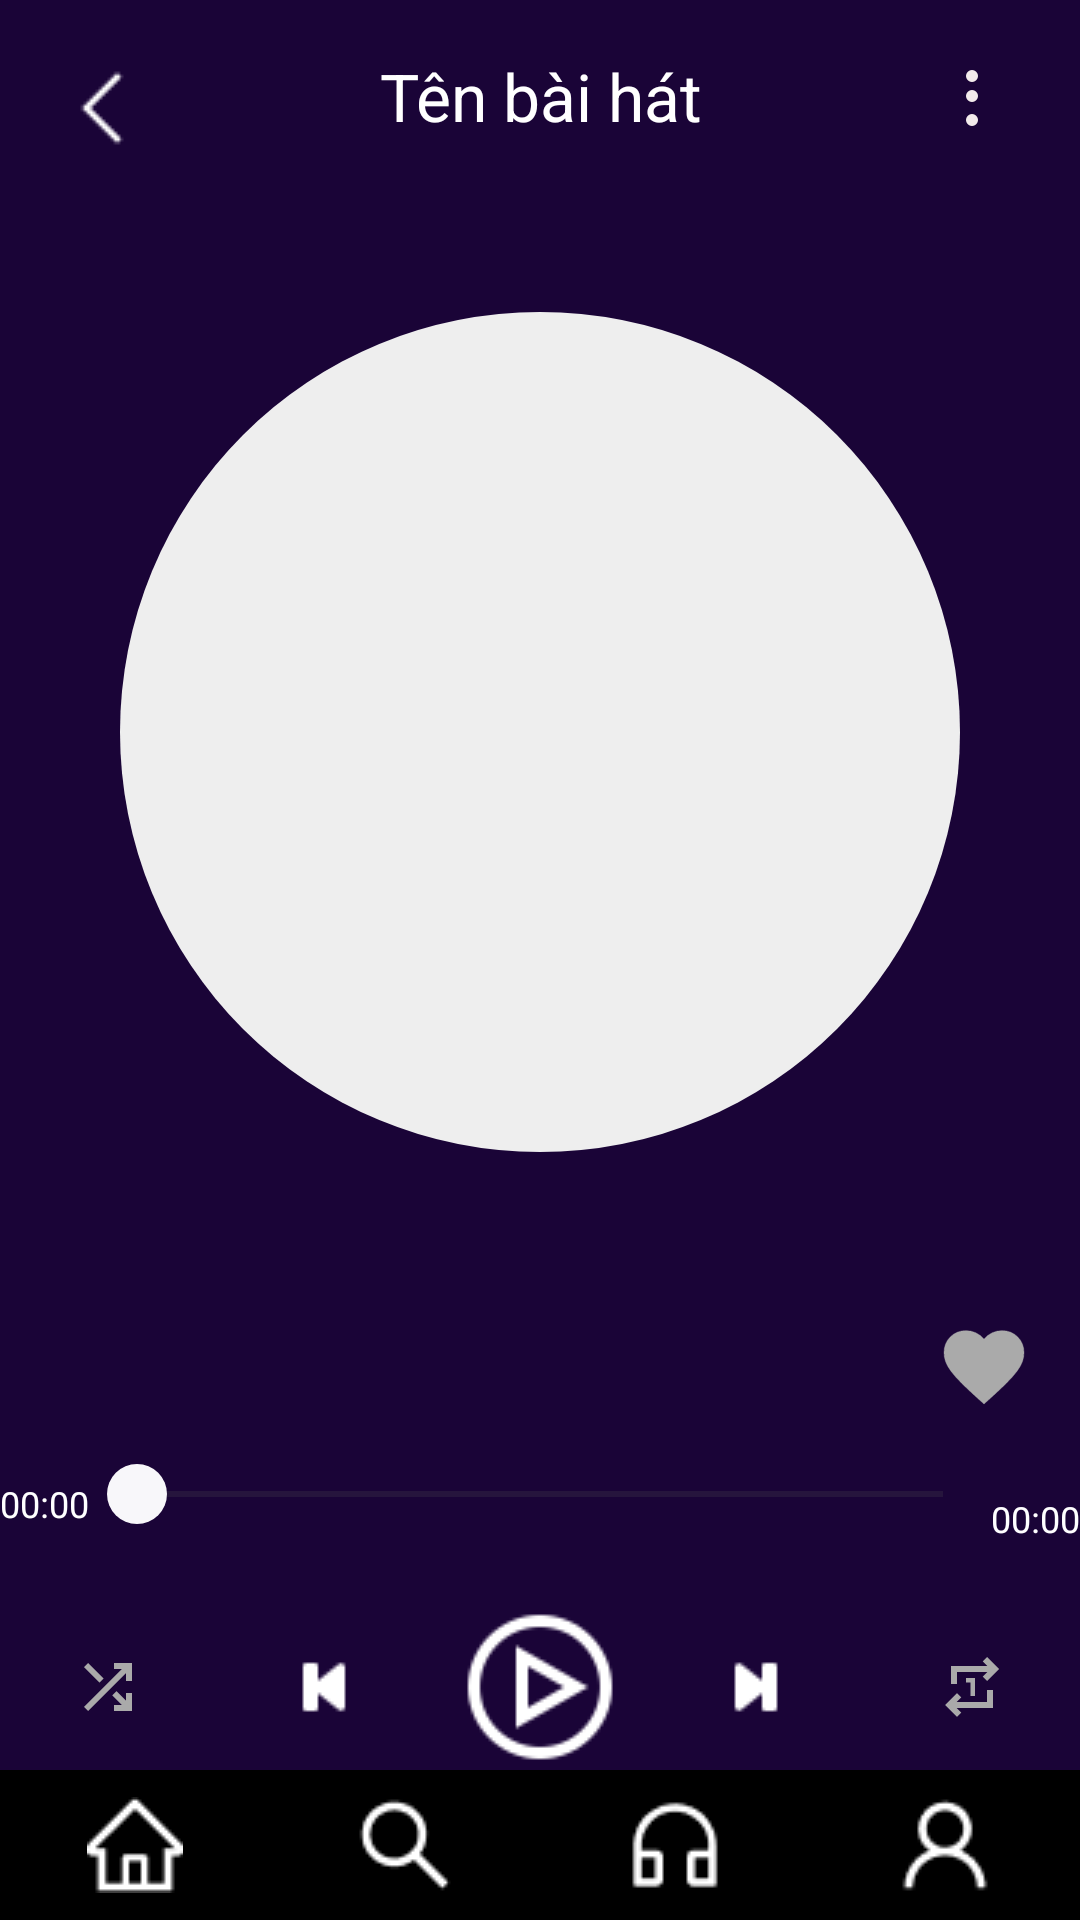

Locate icon controls on the screen. Image size 1080px x 1920px, boxes as (x1, y1, x2, y2).
accounticon: (902, 1800, 988, 1890)
Go back to previous screen: (81, 72, 123, 144)
headphoneimgbtn: (632, 1802, 718, 1888)
heart off: (943, 1330, 1025, 1404)
homebtnimg: (87, 1797, 183, 1893)
Navigation Menu: (966, 70, 978, 126)
next: (734, 1662, 778, 1712)
play: (467, 1614, 613, 1760)
previous: (302, 1662, 346, 1712)
repeat off: (945, 1657, 999, 1717)
searchimgbtn: (360, 1800, 449, 1890)
shuffer off: (84, 1663, 132, 1711)
